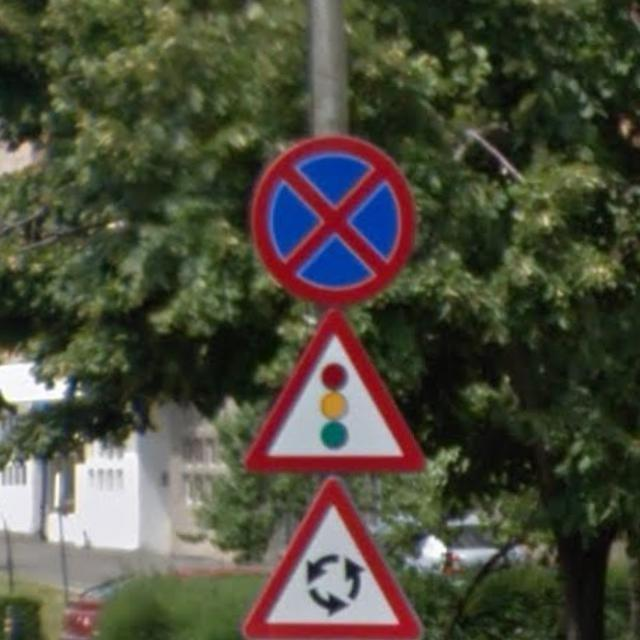forb_waiting: (244, 135, 418, 306)
